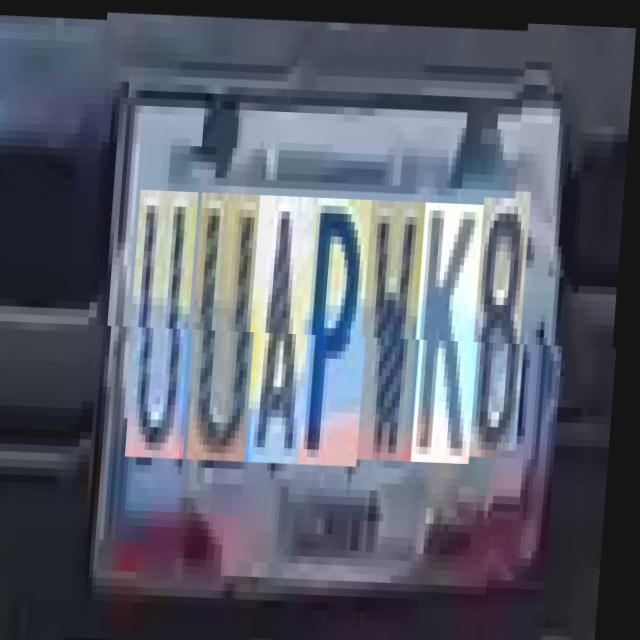8: (476, 193, 538, 454)
A: (251, 192, 321, 460)
K: (418, 198, 491, 460)
P: (305, 194, 379, 463)
U: (132, 188, 206, 457), (193, 190, 267, 459)
W: (364, 197, 433, 458)
